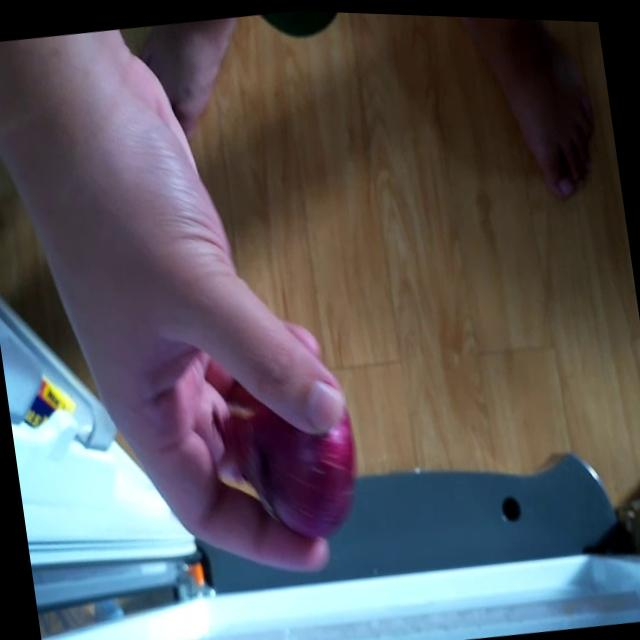onion: (234, 376, 369, 552)
